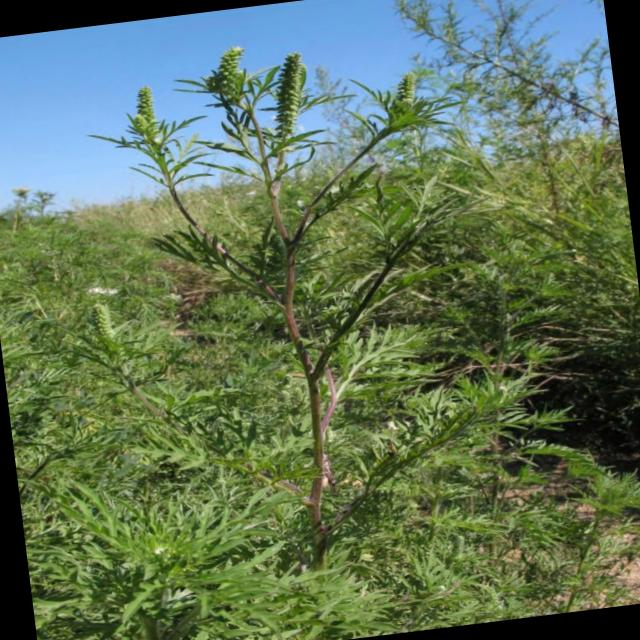ambrosia: (58, 453, 396, 640), (205, 20, 328, 174), (125, 379, 282, 499), (332, 312, 471, 391), (104, 64, 190, 181), (360, 53, 449, 164)
